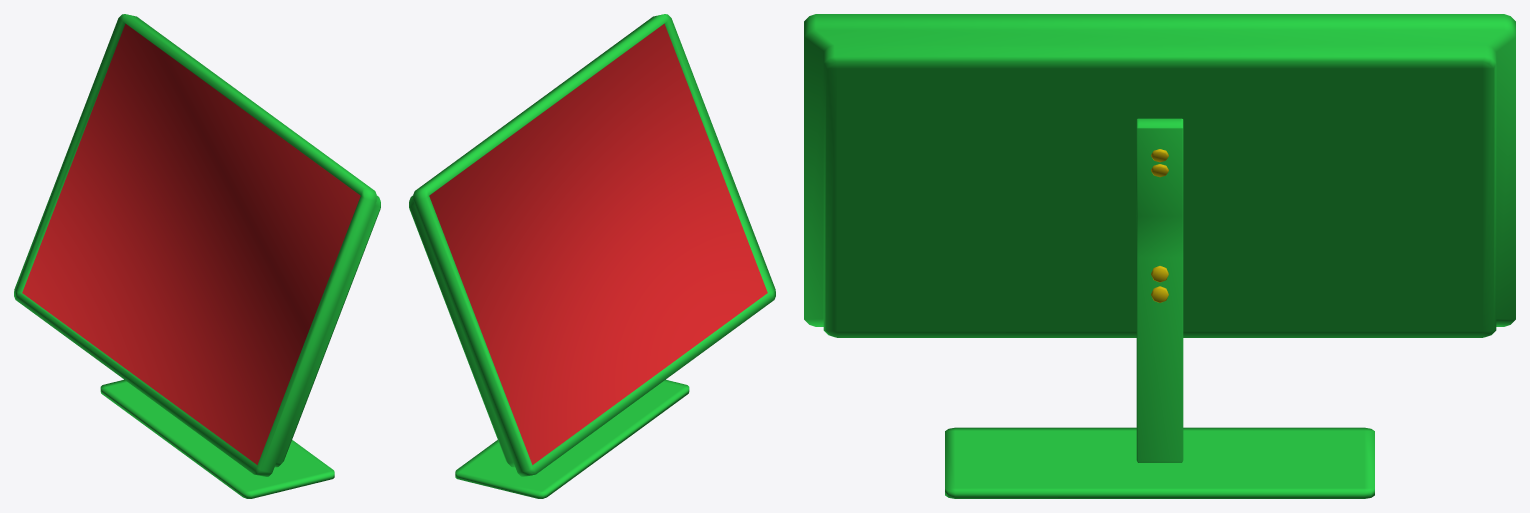
Rendered from MOD_ELE_CPU_screen_01.fbx.
3 renders of one model, left to right at view 1: azimuth 30°, elevation 25°; view 2: azimuth 150°, elevation 25°; view 3: azimuth 270°, elevation 25°, orthographic. The views are drawn at different scales.
Parts seen in each view (by area): view 1: HSHP_MOD_CPU_screen; view 2: HSHP_MOD_CPU_screen; view 3: HSHP_MOD_CPU_screen.
Part boxes in pixels (box(x1,y1,x2,y2)): HSHP_MOD_CPU_screen: box(14, 14, 380, 498); HSHP_MOD_CPU_screen: box(409, 14, 775, 498); HSHP_MOD_CPU_screen: box(804, 14, 1515, 498).
Bounding box in the file's own units: 0.2886 × 0.6776 × 0.9266.
